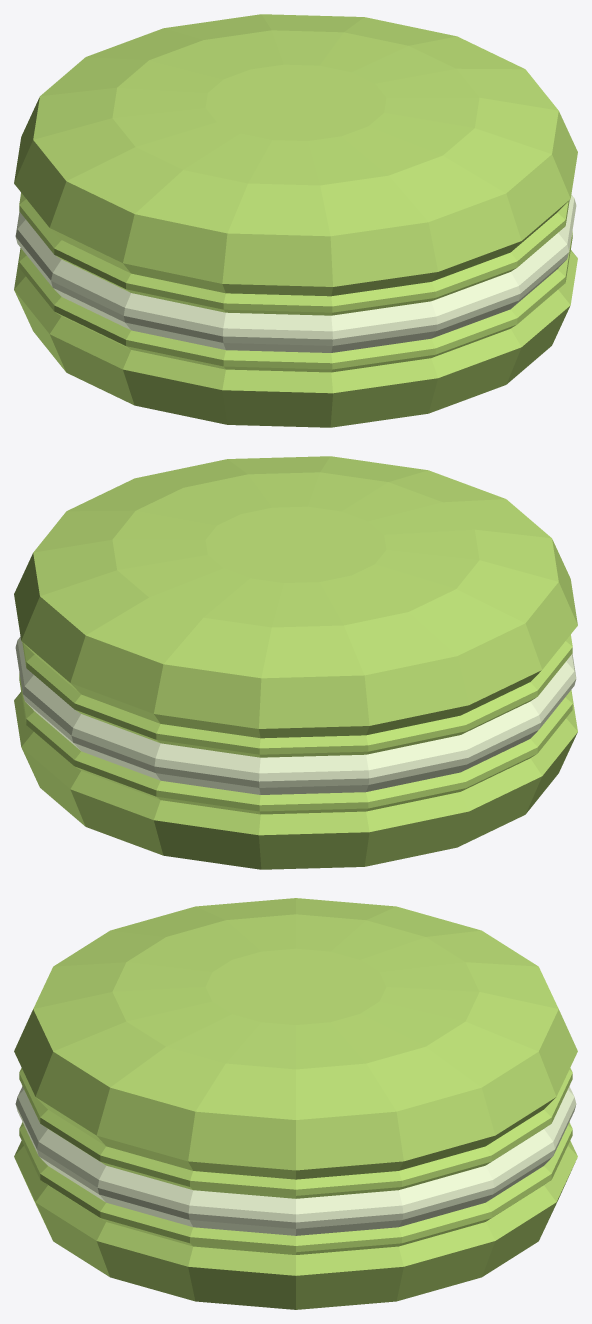
The model's file is macaron.glb.
3 renders of one model, top to bottom at view 1: azimuth 30°, elevation 25°; view 2: azimuth 150°, elevation 25°; view 3: azimuth 270°, elevation 25°, orthographic.
Parts seen in each view (by area): view 1: Macaron; view 2: Macaron; view 3: Macaron.
Part boxes in pixels (x1=…): Macaron: x1=14, y1=14, x2=577, y2=427; Macaron: x1=14, y1=456, x2=577, y2=869; Macaron: x1=14, y1=898, x2=577, y2=1309.
Size of the model in its own units: 72.41 by 33.17 by 72.41.
1 material, 1 textured.
